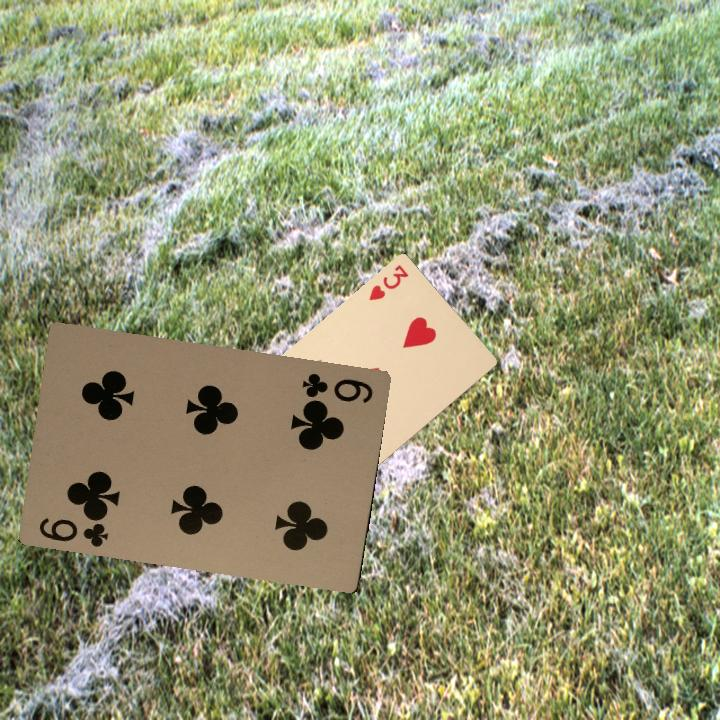3h: (365, 260, 411, 303)
6c: (35, 509, 111, 550), (298, 368, 375, 406)
